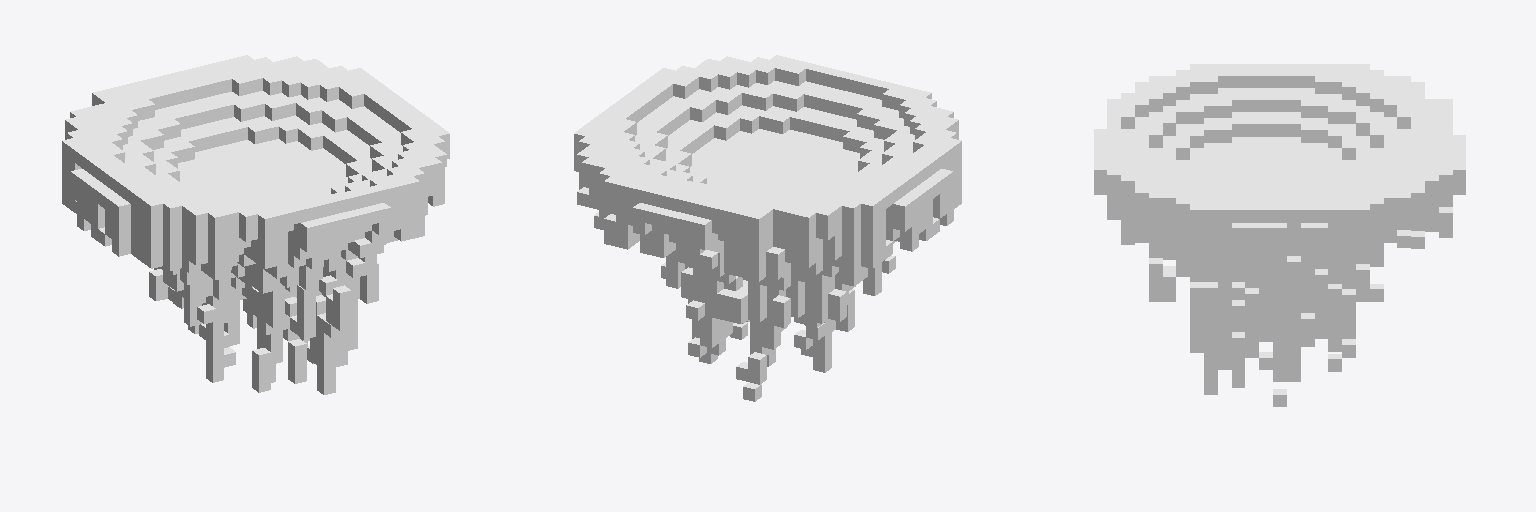
File: Hole.obj
3 views of the same model, side by side, from view 1: azimuth 30°, elevation 25°; view 2: azimuth 150°, elevation 25°; view 3: azimuth 270°, elevation 25° (orthographic).
Bounding box in the file's own units: 27 × 19 × 27.